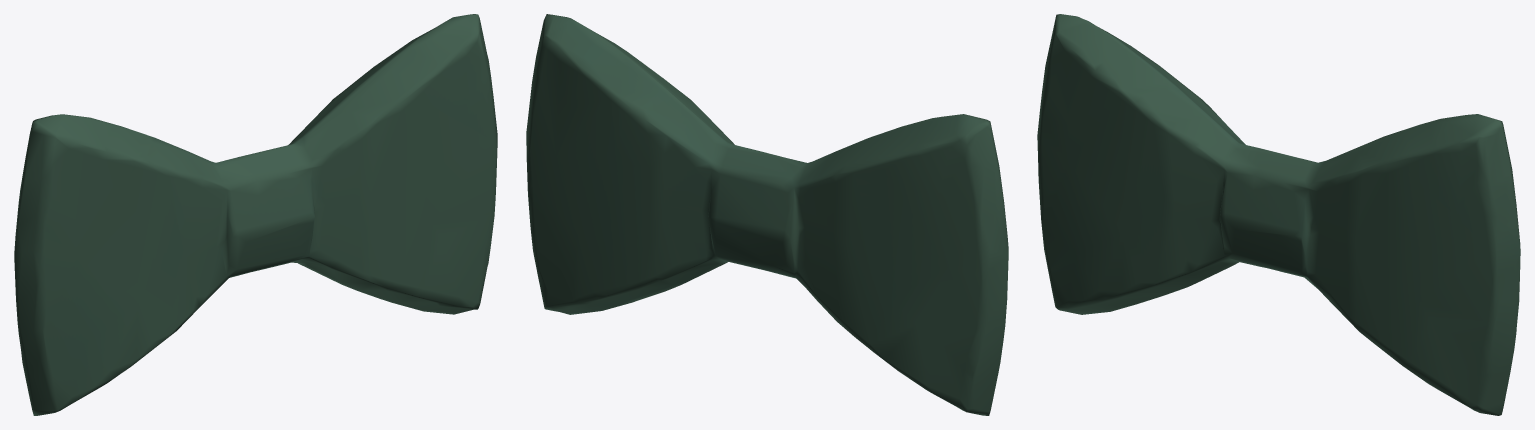
Rendered from gen3d-bow-tie-lod0.glb.
3 renders of one model, left to right at view 1: azimuth 30°, elevation 25°; view 2: azimuth 150°, elevation 25°; view 3: azimuth 330°, elevation 25°, orthographic.
Parts seen in each view (by area): view 1: part_0; view 2: part_0; view 3: part_0.
Part boxes in pixels (left/top/right/bottom): part_0: left=14, top=14, right=497, bottom=415; part_0: left=526, top=14, right=1008, bottom=415; part_0: left=1037, top=14, right=1520, bottom=415.
Bounding box in the file's own units: 1.7 × 0.9984 × 0.2303.
